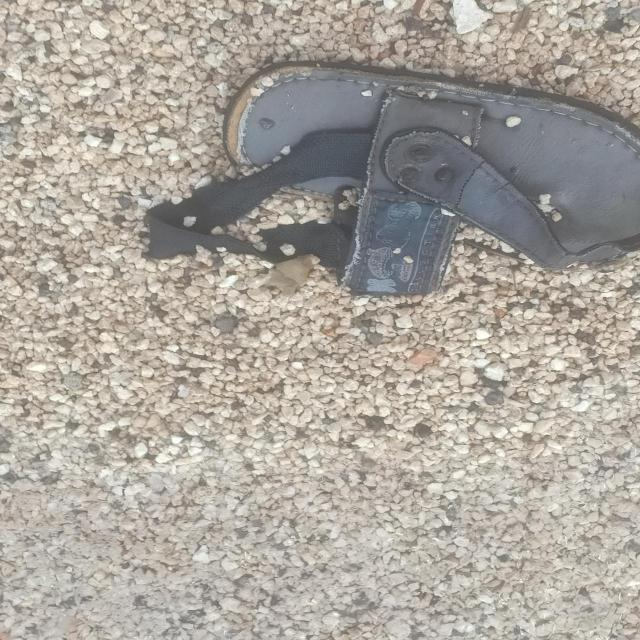litter: (222, 60, 640, 232)
